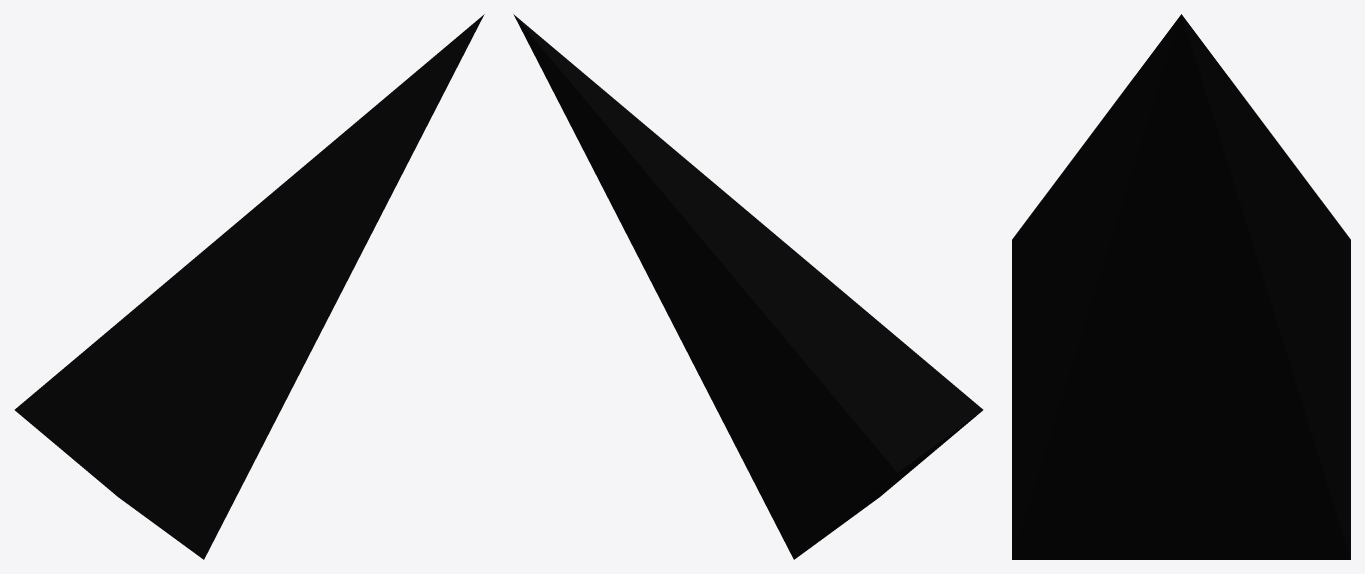
Rendered from float_R_arm.obj.
The picture shows the model from 3 angles, left to right: view 1: azimuth 30°, elevation 25°; view 2: azimuth 150°, elevation 25°; view 3: azimuth 270°, elevation 25°; orthographic projection. The views are drawn at different scales.
Visible parts, largest first — view 1: Right; view 2: Right; view 3: Right.
Boxes of the visible parts, x1,y1,x2,y2 form: Right: (14, 14, 484, 559); Right: (513, 14, 983, 559); Right: (1012, 14, 1350, 559).
Bounding box in the file's own units: 2.91 × 2.83 × 1.01.
Materials: 1 (1 with a texture image).
